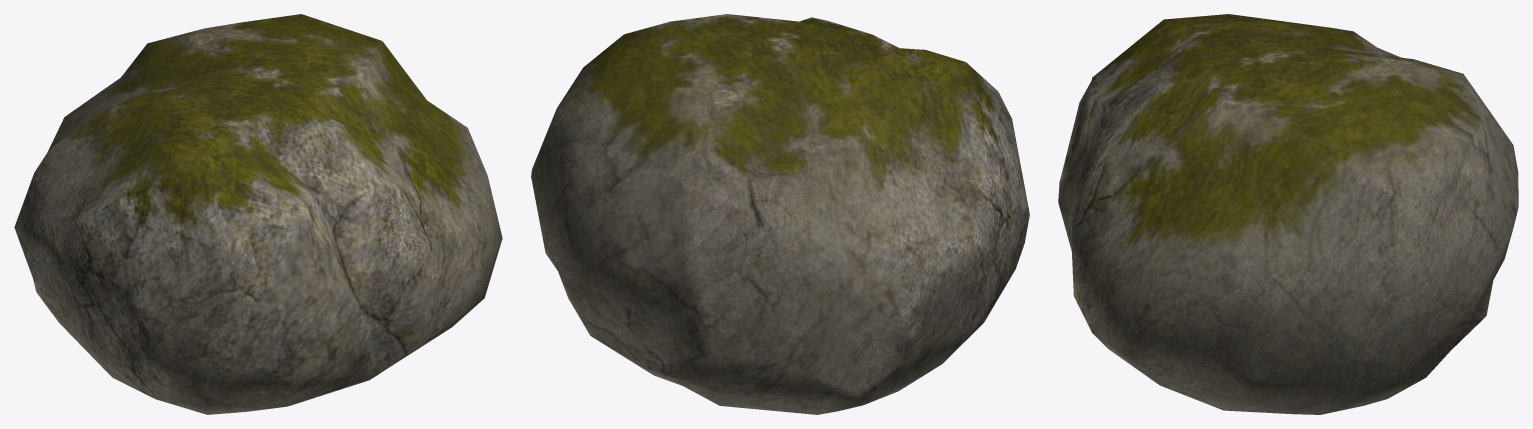
The model's file is rock-boulder-01.glb.
3 renders of one model, left to right at view 1: azimuth 30°, elevation 25°; view 2: azimuth 150°, elevation 25°; view 3: azimuth 270°, elevation 25°, orthographic. The views are drawn at different scales.
Size of the model in its own units: 0.957 by 0.7017 by 0.9077.
Materials: 1 (1 with a texture image).
